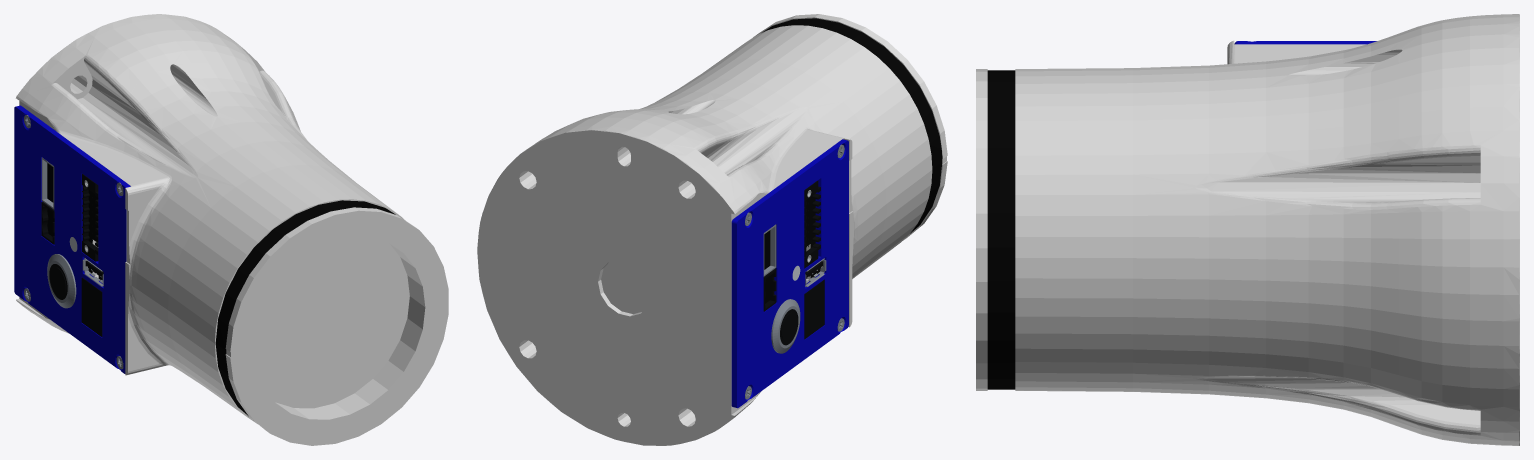
The picture shows the model from 3 angles, left to right: view 1: azimuth 30°, elevation 25°; view 2: azimuth 150°, elevation 25°; view 3: azimuth 270°, elevation 25°; orthographic projection. The views are drawn at different scales.
Visible parts, largest first — view 1: base_link; view 2: base_link; view 3: base_link.
Part boxes in pixels (bbox=[...]): base_link: bbox=[14, 14, 448, 445]; base_link: bbox=[477, 14, 947, 445]; base_link: bbox=[976, 14, 1519, 445].
Size of the model in its own units: 0.0985 by 0.11 by 0.1385.
